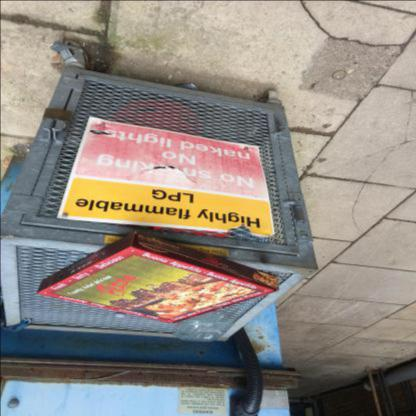Carton: (37, 231, 278, 323)
Plastic container: (173, 312, 234, 341)
